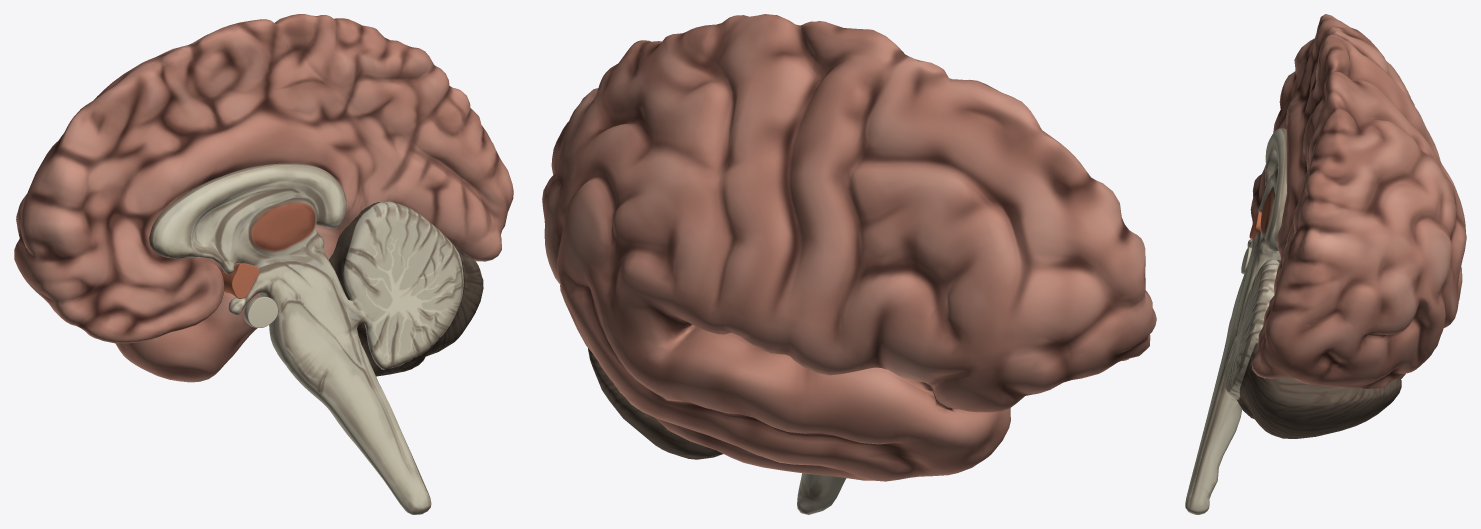
File: brain.gltf
3 views of the same model, side by side, from view 1: azimuth 30°, elevation 25°; view 2: azimuth 150°, elevation 25°; view 3: azimuth 270°, elevation 25° (orthographic). The views are drawn at different scales.
Parts seen in each view (by area): view 1: human_brain_section.1; view 2: human_brain_section.1; view 3: human_brain_section.1.
Boxes of the visible parts, bbox=[...] form: human_brain_section.1: bbox=[14, 14, 513, 514]; human_brain_section.1: bbox=[542, 14, 1156, 514]; human_brain_section.1: bbox=[1185, 14, 1466, 514].
Size of the model in its own units: 2.44 by 2.28 by 1.38.
Materials: 1 (1 with a texture image).
